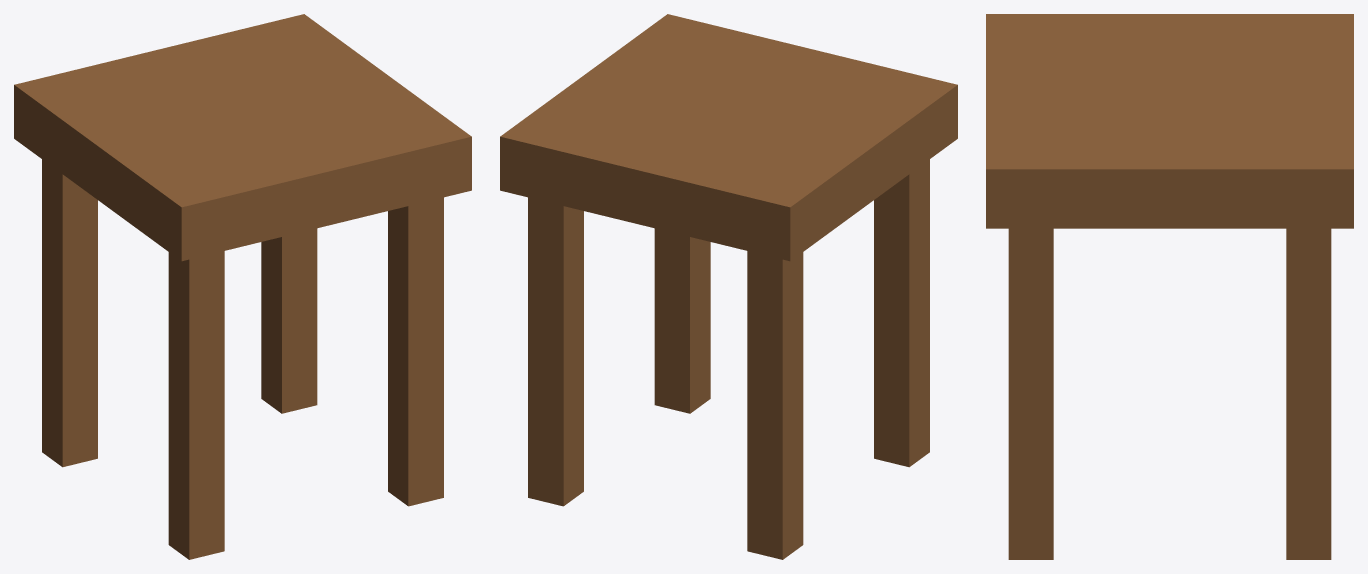
The model's file is wooden_stool.glb.
3 views of the same model, side by side, from view 1: azimuth 30°, elevation 25°; view 2: azimuth 150°, elevation 25°; view 3: azimuth 270°, elevation 25° (orthographic). The views are drawn at different scales.
Visible parts, largest first — view 1: wooden_stool_Mesh; view 2: wooden_stool_Mesh; view 3: wooden_stool_Mesh.
Boxes of the visible parts, x1,y1,x2,y2 form: wooden_stool_Mesh: (14,14,471,559); wooden_stool_Mesh: (500,14,957,559); wooden_stool_Mesh: (986,14,1353,559).
Size of the model in its own units: 0.45 by 0.54 by 0.45.
